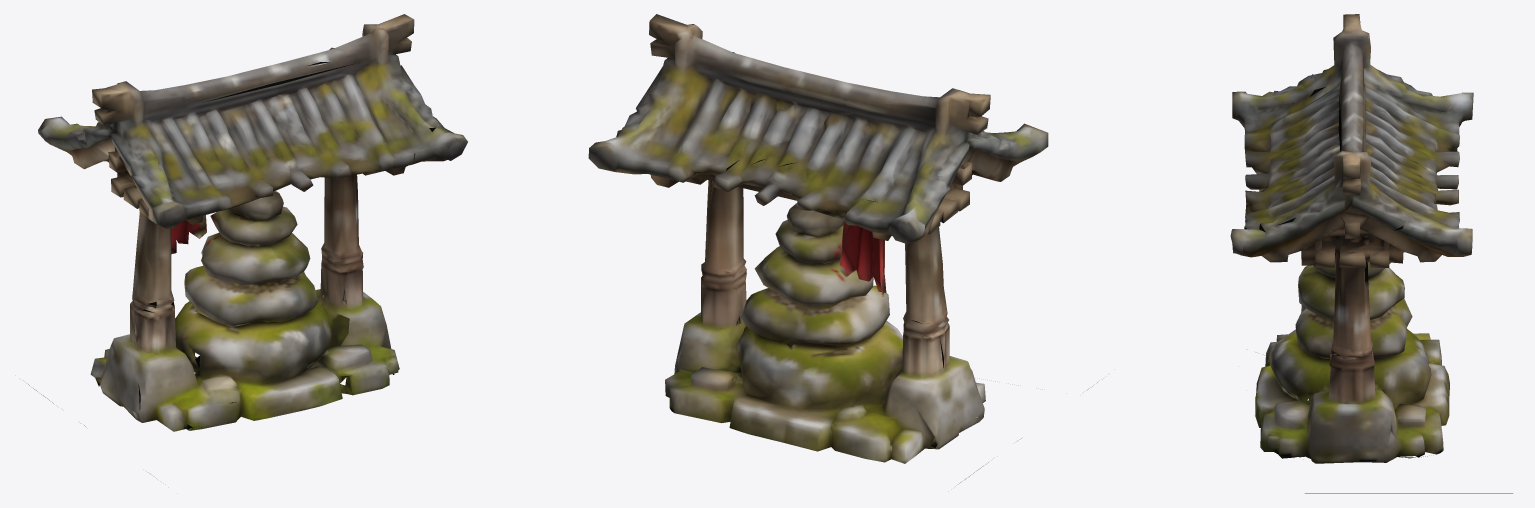
The model's file is shrine.glb.
The picture shows the model from 3 angles, left to right: view 1: azimuth 30°, elevation 25°; view 2: azimuth 150°, elevation 25°; view 3: azimuth 270°, elevation 25°; orthographic projection. The views are drawn at different scales.
Parts seen in each view (by area): view 1: MV_shrine; view 2: MV_shrine; view 3: MV_shrine.
Part boxes in pixels (box(x1,y1,x2,y2)): MV_shrine: box(28, 14, 467, 431); MV_shrine: box(588, 14, 1097, 483); MV_shrine: box(1230, 14, 1512, 493).
Bounding box in the file's own units: 2.56 × 2.2 × 2.33.
Materials: 1 (1 with a texture image).
